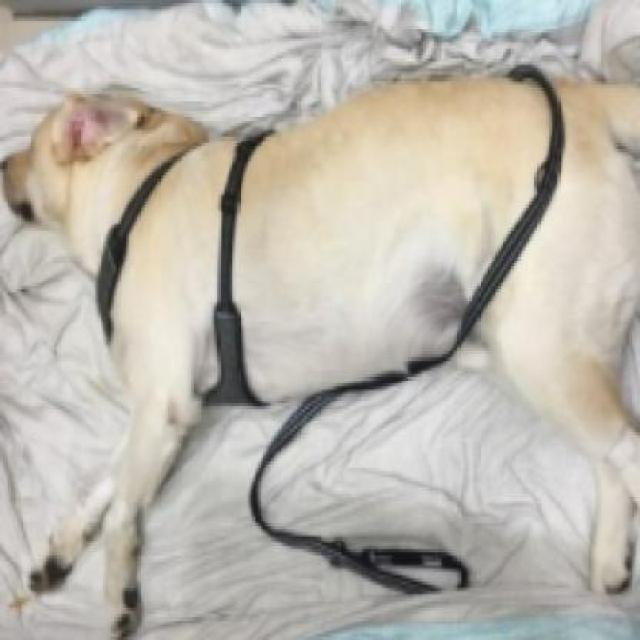Dog: (0, 70, 638, 638)
